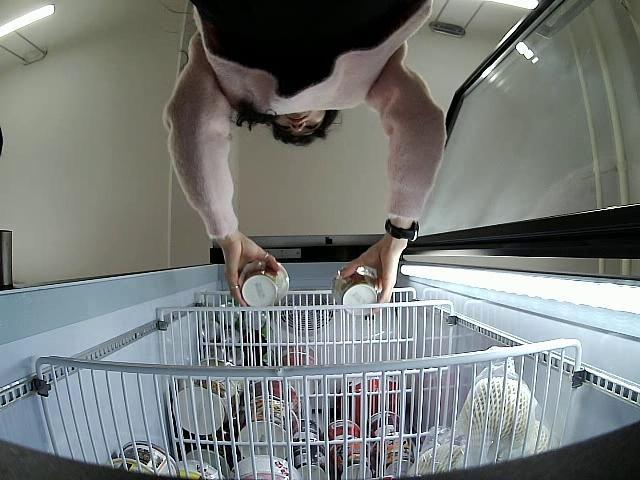04_chapagetti_S: (330, 264, 381, 318), (238, 256, 289, 308)
